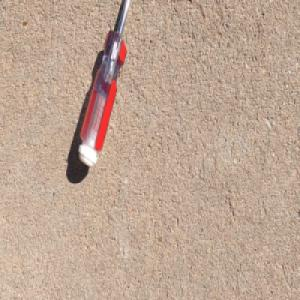Screwdriver: (77, 0, 133, 169)
